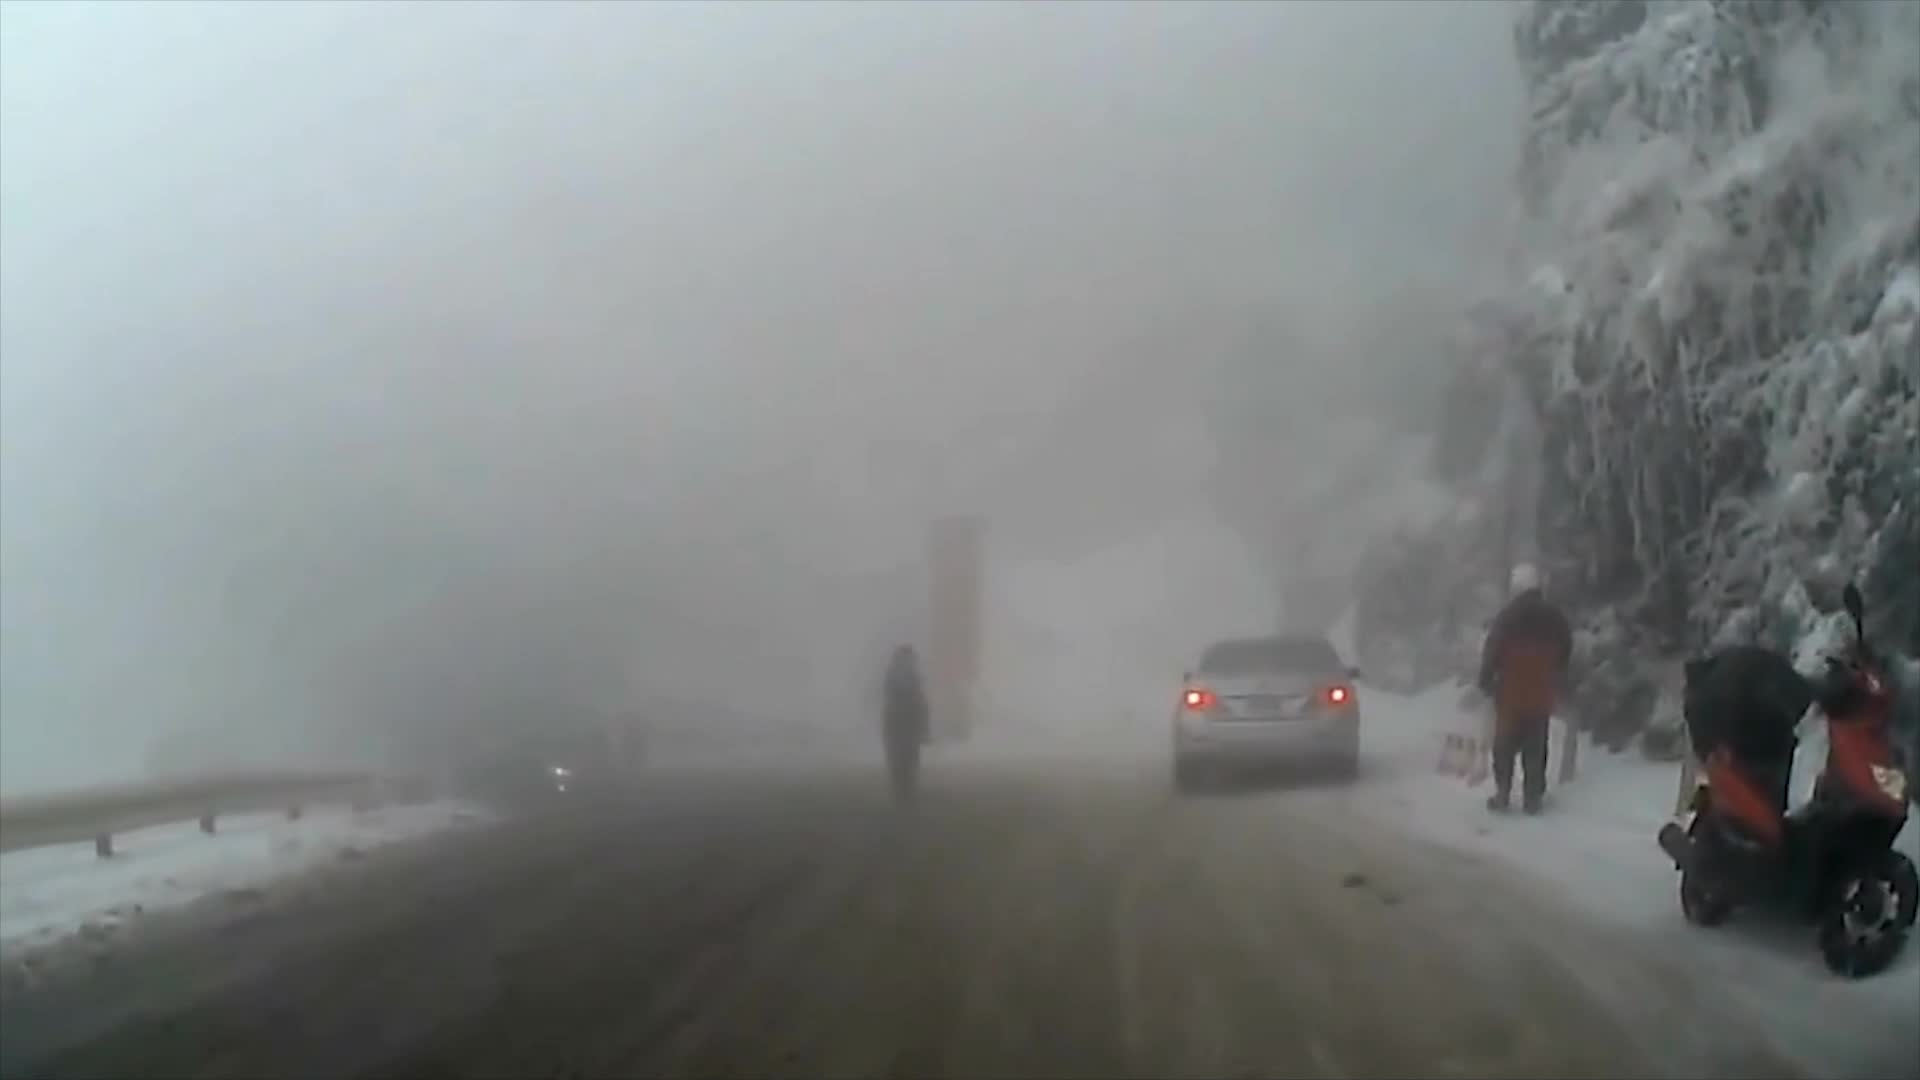pedestrian: (1477, 561, 1583, 816), (878, 643, 930, 810)
vehicle: (1171, 634, 1365, 794)
